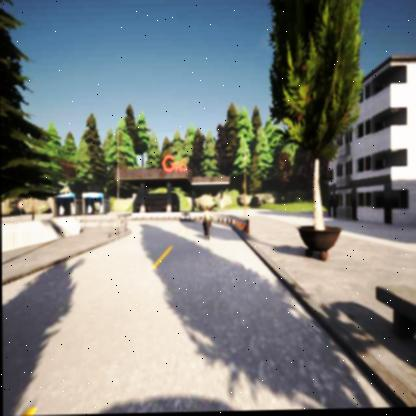motobike: (201, 211, 212, 240)
